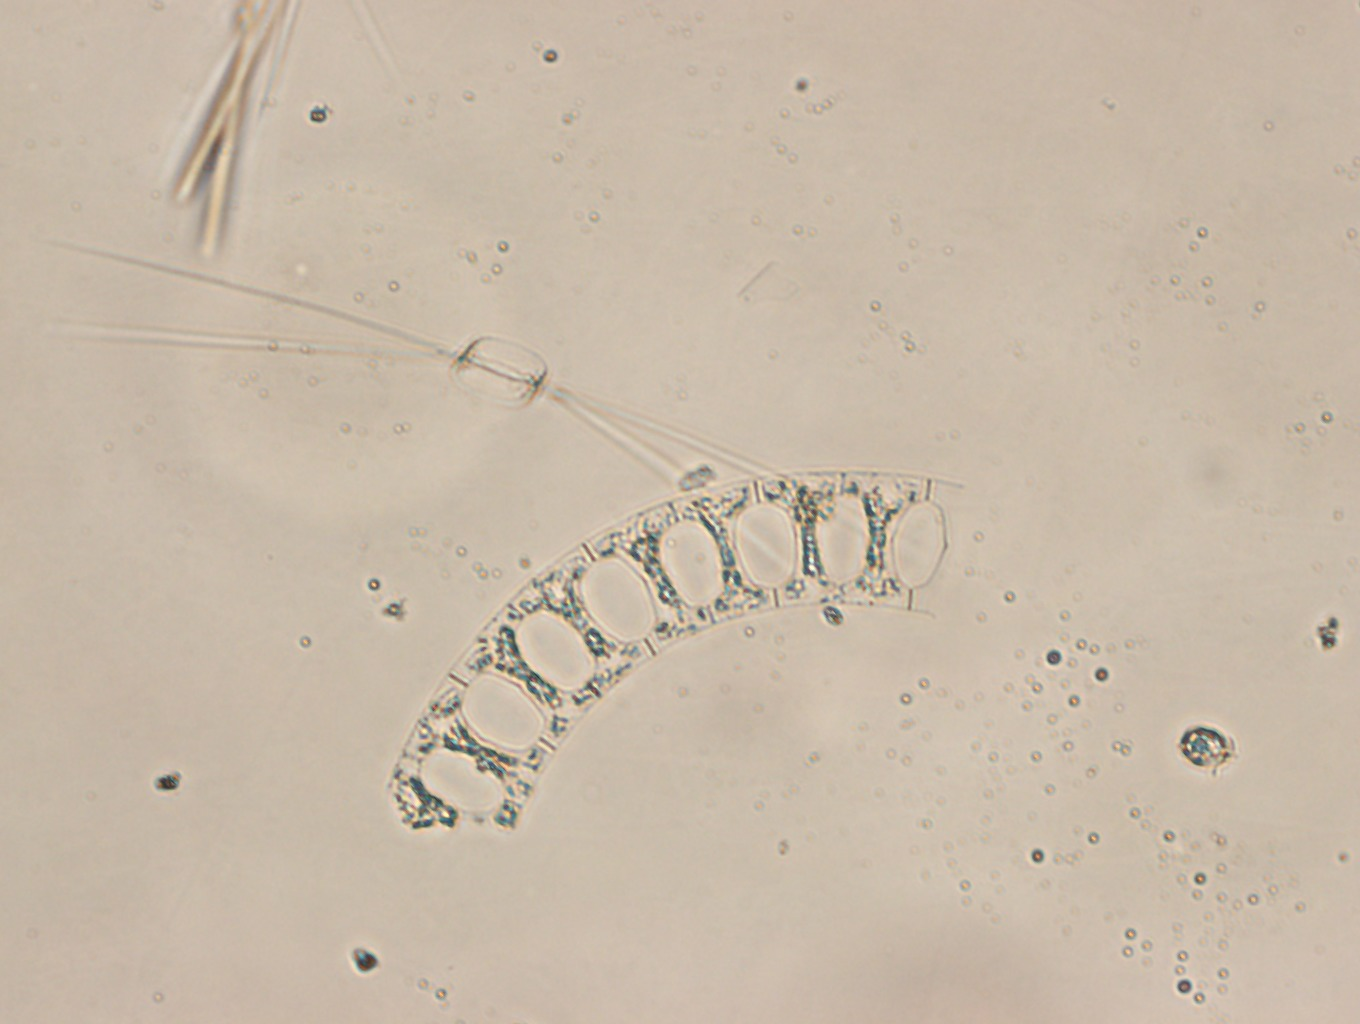chaetoceros: (51, 236, 924, 632)
eucampia: (386, 469, 968, 836)
